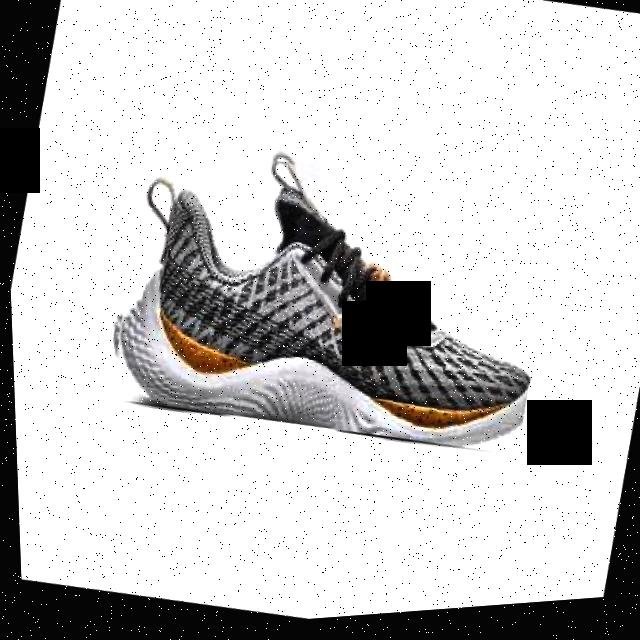shoe: (90, 115, 567, 486)
